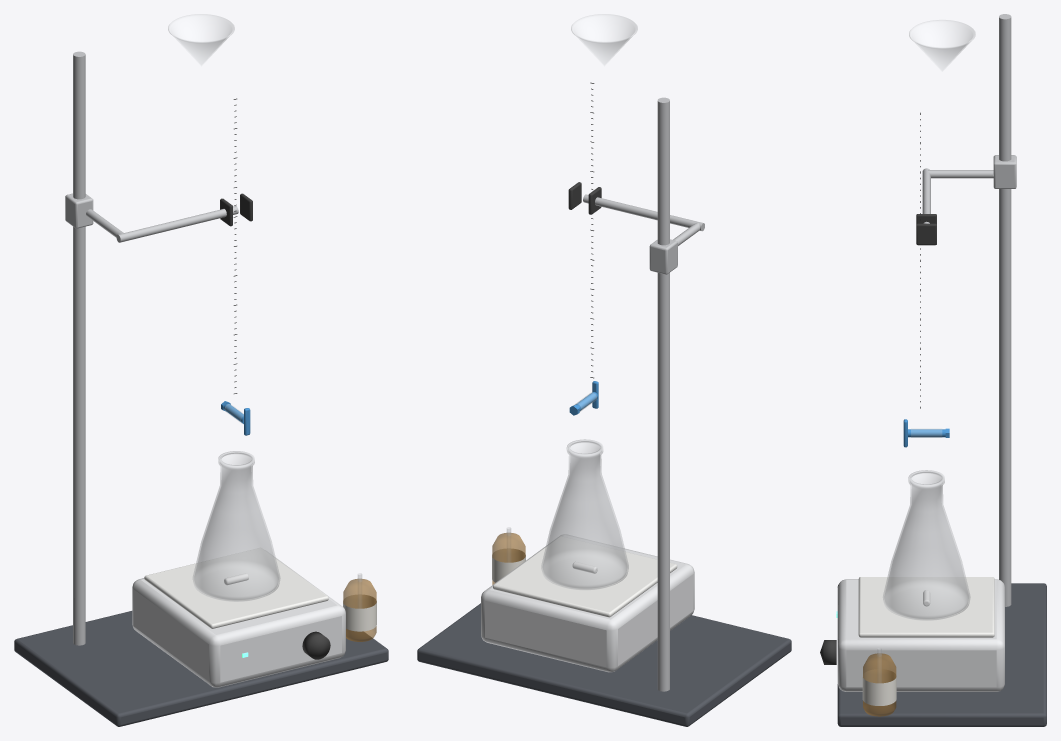
The model's file is titration-rig.glb.
3 views of the same model, side by side, from view 1: azimuth 30°, elevation 25°; view 2: azimuth 150°, elevation 25°; view 3: azimuth 270°, elevation 25° (orthographic).
Visible parts, largest first — view 1: stand_base, stirrer_body, flask_glass, stirrer_top, stand_rod, funnel_glass, bottle, label, clamp_arm_x, boss_head, knob_mesh; view 2: stand_base, stirrer_body, flask_glass, stirrer_top, stand_rod, funnel_glass, clamp_arm_x, bottle, boss_head, label; view 3: stand_base, stirrer_body, flask_glass, stirrer_top, stand_rod, funnel_glass, bottle, label, boss_head, clamp_arm, clamp_jaw.001, clamp_arm_x (+1 smaller).
Part boxes in pixels (x1=…): stand_base: x1=14, y1=611, x2=388, y2=726; stirrer_body: x1=132, y1=551, x2=345, y2=687; flask_glass: x1=193, y1=451, x2=280, y2=601; stirrer_top: x1=144, y1=548, x2=328, y2=628; stand_rod: x1=73, y1=51, x2=85, y2=645; funnel_glass: x1=168, y1=14, x2=234, y2=66; bottle: x1=343, y1=579, x2=376, y2=641; label: x1=343, y1=595, x2=376, y2=631; clamp_arm_x: x1=116, y1=206, x2=238, y2=242; boss_head: x1=65, y1=193, x2=93, y2=228; knob_mesh: x1=302, y1=631, x2=330, y2=659; stand_base: x1=417, y1=603, x2=791, y2=726; stirrer_body: x1=481, y1=534, x2=694, y2=672; flask_glass: x1=541, y1=439, x2=628, y2=589; stirrer_top: x1=493, y1=536, x2=677, y2=617; stand_rod: x1=657, y1=97, x2=669, y2=691; funnel_glass: x1=571, y1=14, x2=637, y2=66; clamp_arm_x: x1=583, y1=194, x2=704, y2=231; bottle: x1=492, y1=533, x2=525, y2=584; boss_head: x1=649, y1=239, x2=677, y2=274; label: x1=492, y1=549, x2=525, y2=582; stand_base: x1=837, y1=583, x2=1046, y2=726; stirrer_body: x1=837, y1=579, x2=1004, y2=691; flask_glass: x1=883, y1=470, x2=970, y2=620; stirrer_top: x1=858, y1=577, x2=994, y2=637; stand_rod: x1=999, y1=14, x2=1011, y2=606; funnel_glass: x1=909, y1=20, x2=975, y2=71; bottle: x1=863, y1=653, x2=896, y2=716; label: x1=862, y1=669, x2=896, y2=705; boss_head: x1=993, y1=155, x2=1016, y2=188; clamp_arm: x1=927, y1=170, x2=993, y2=178; clamp_jaw.001: x1=916, y1=223, x2=936, y2=245; clamp_arm_x: x1=922, y1=168, x2=930, y2=223.
Bounding box in the file's own units: 0.3062 × 0.6628 × 0.217.
